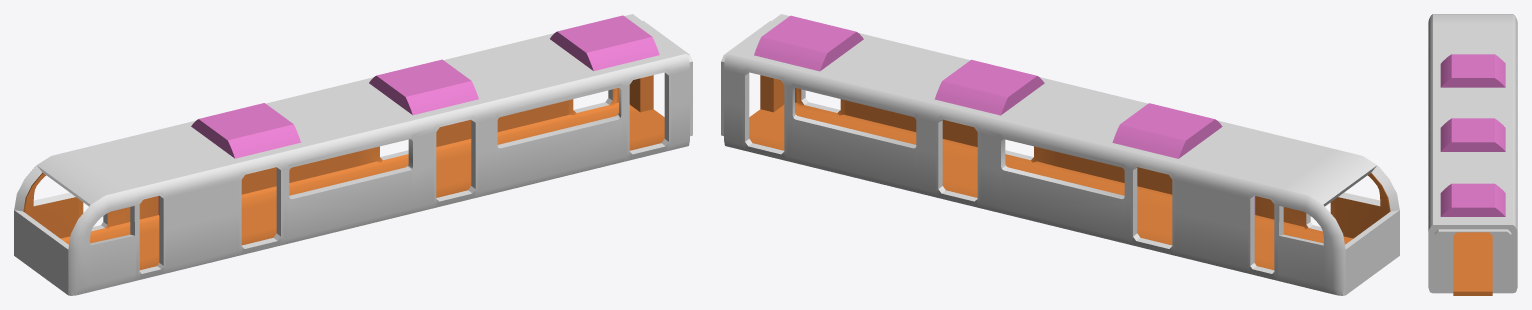
File: NewTrain_MainBase.fbx
3 views of the same model, side by side, from view 1: azimuth 30°, elevation 25°; view 2: azimuth 150°, elevation 25°; view 3: azimuth 270°, elevation 25° (orthographic). The views are drawn at different scales.
Visible parts, largest first — view 1: Train, Top; view 2: Train, Top; view 3: Train, Top.
Boxes of the visible parts, <box> form: Train: <box>14,14,692,295</box>; Top: <box>191,15,659,158</box>; Train: <box>721,14,1399,295</box>; Top: <box>754,15,1222,158</box>; Train: <box>1428,14,1517,295</box>; Top: <box>1440,54,1505,216</box>.
Bounding box in the file's own units: 1893 × 305 × 317.
